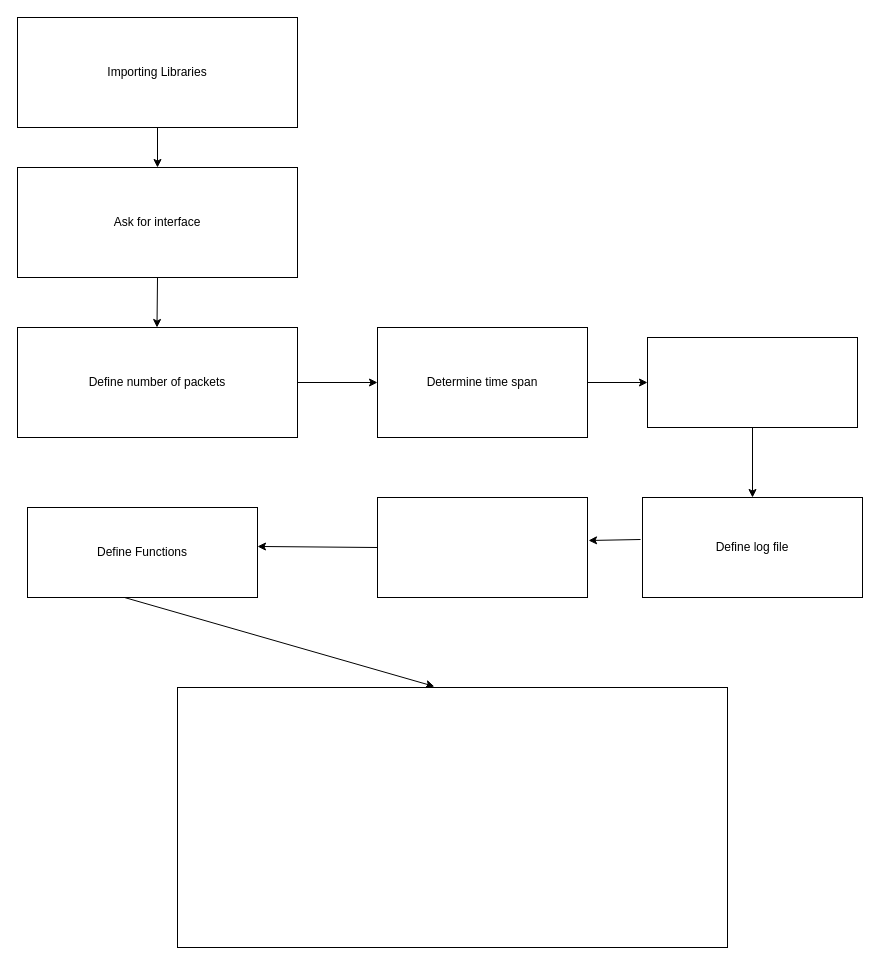
The diagram is 880 pixels wide and 965 high, and some of its shapes have lost their labels. Here are the shapes that lost their labels. From the top down, the box of each, then its label:
(646, 336, 858, 428): Define or ask for Protocol
(376, 496, 588, 598): Filter packets
(176, 686, 728, 948): Sniff packets
